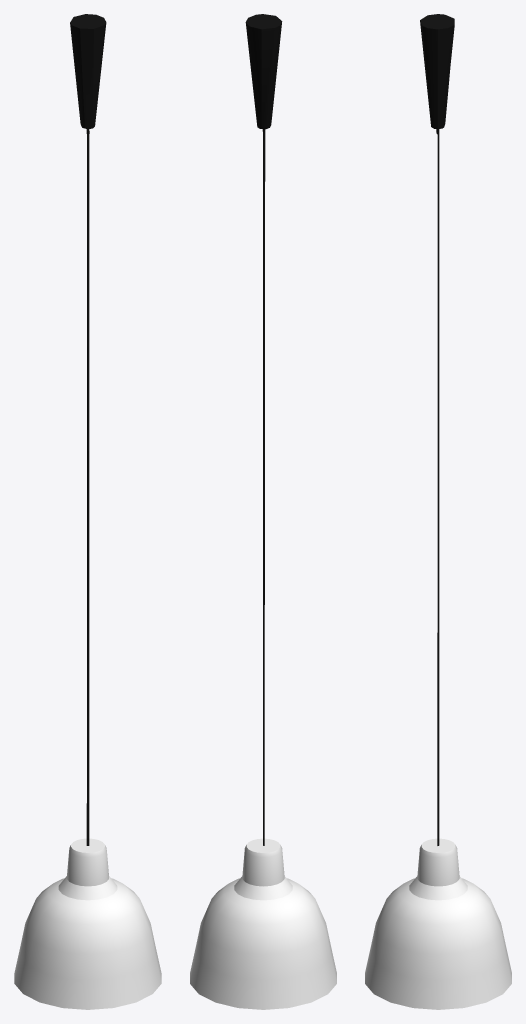
The model's file is Lamp.FBX.
3 renders of one model, left to right at view 1: azimuth 30°, elevation 25°; view 2: azimuth 150°, elevation 25°; view 3: azimuth 270°, elevation 25°, orthographic.
Visible parts, largest first — view 1: lamp; view 2: lamp; view 3: lamp.
Boxes of the visible parts, x1=… form: lamp: x1=14, y1=14, x2=161, y2=1009; lamp: x1=190, y1=14, x2=336, y2=1009; lamp: x1=365, y1=14, x2=511, y2=1009.
Bounding box in the file's own units: 28.79 × 28.35 × 204.
Materials: 2 (1 with a texture image).
